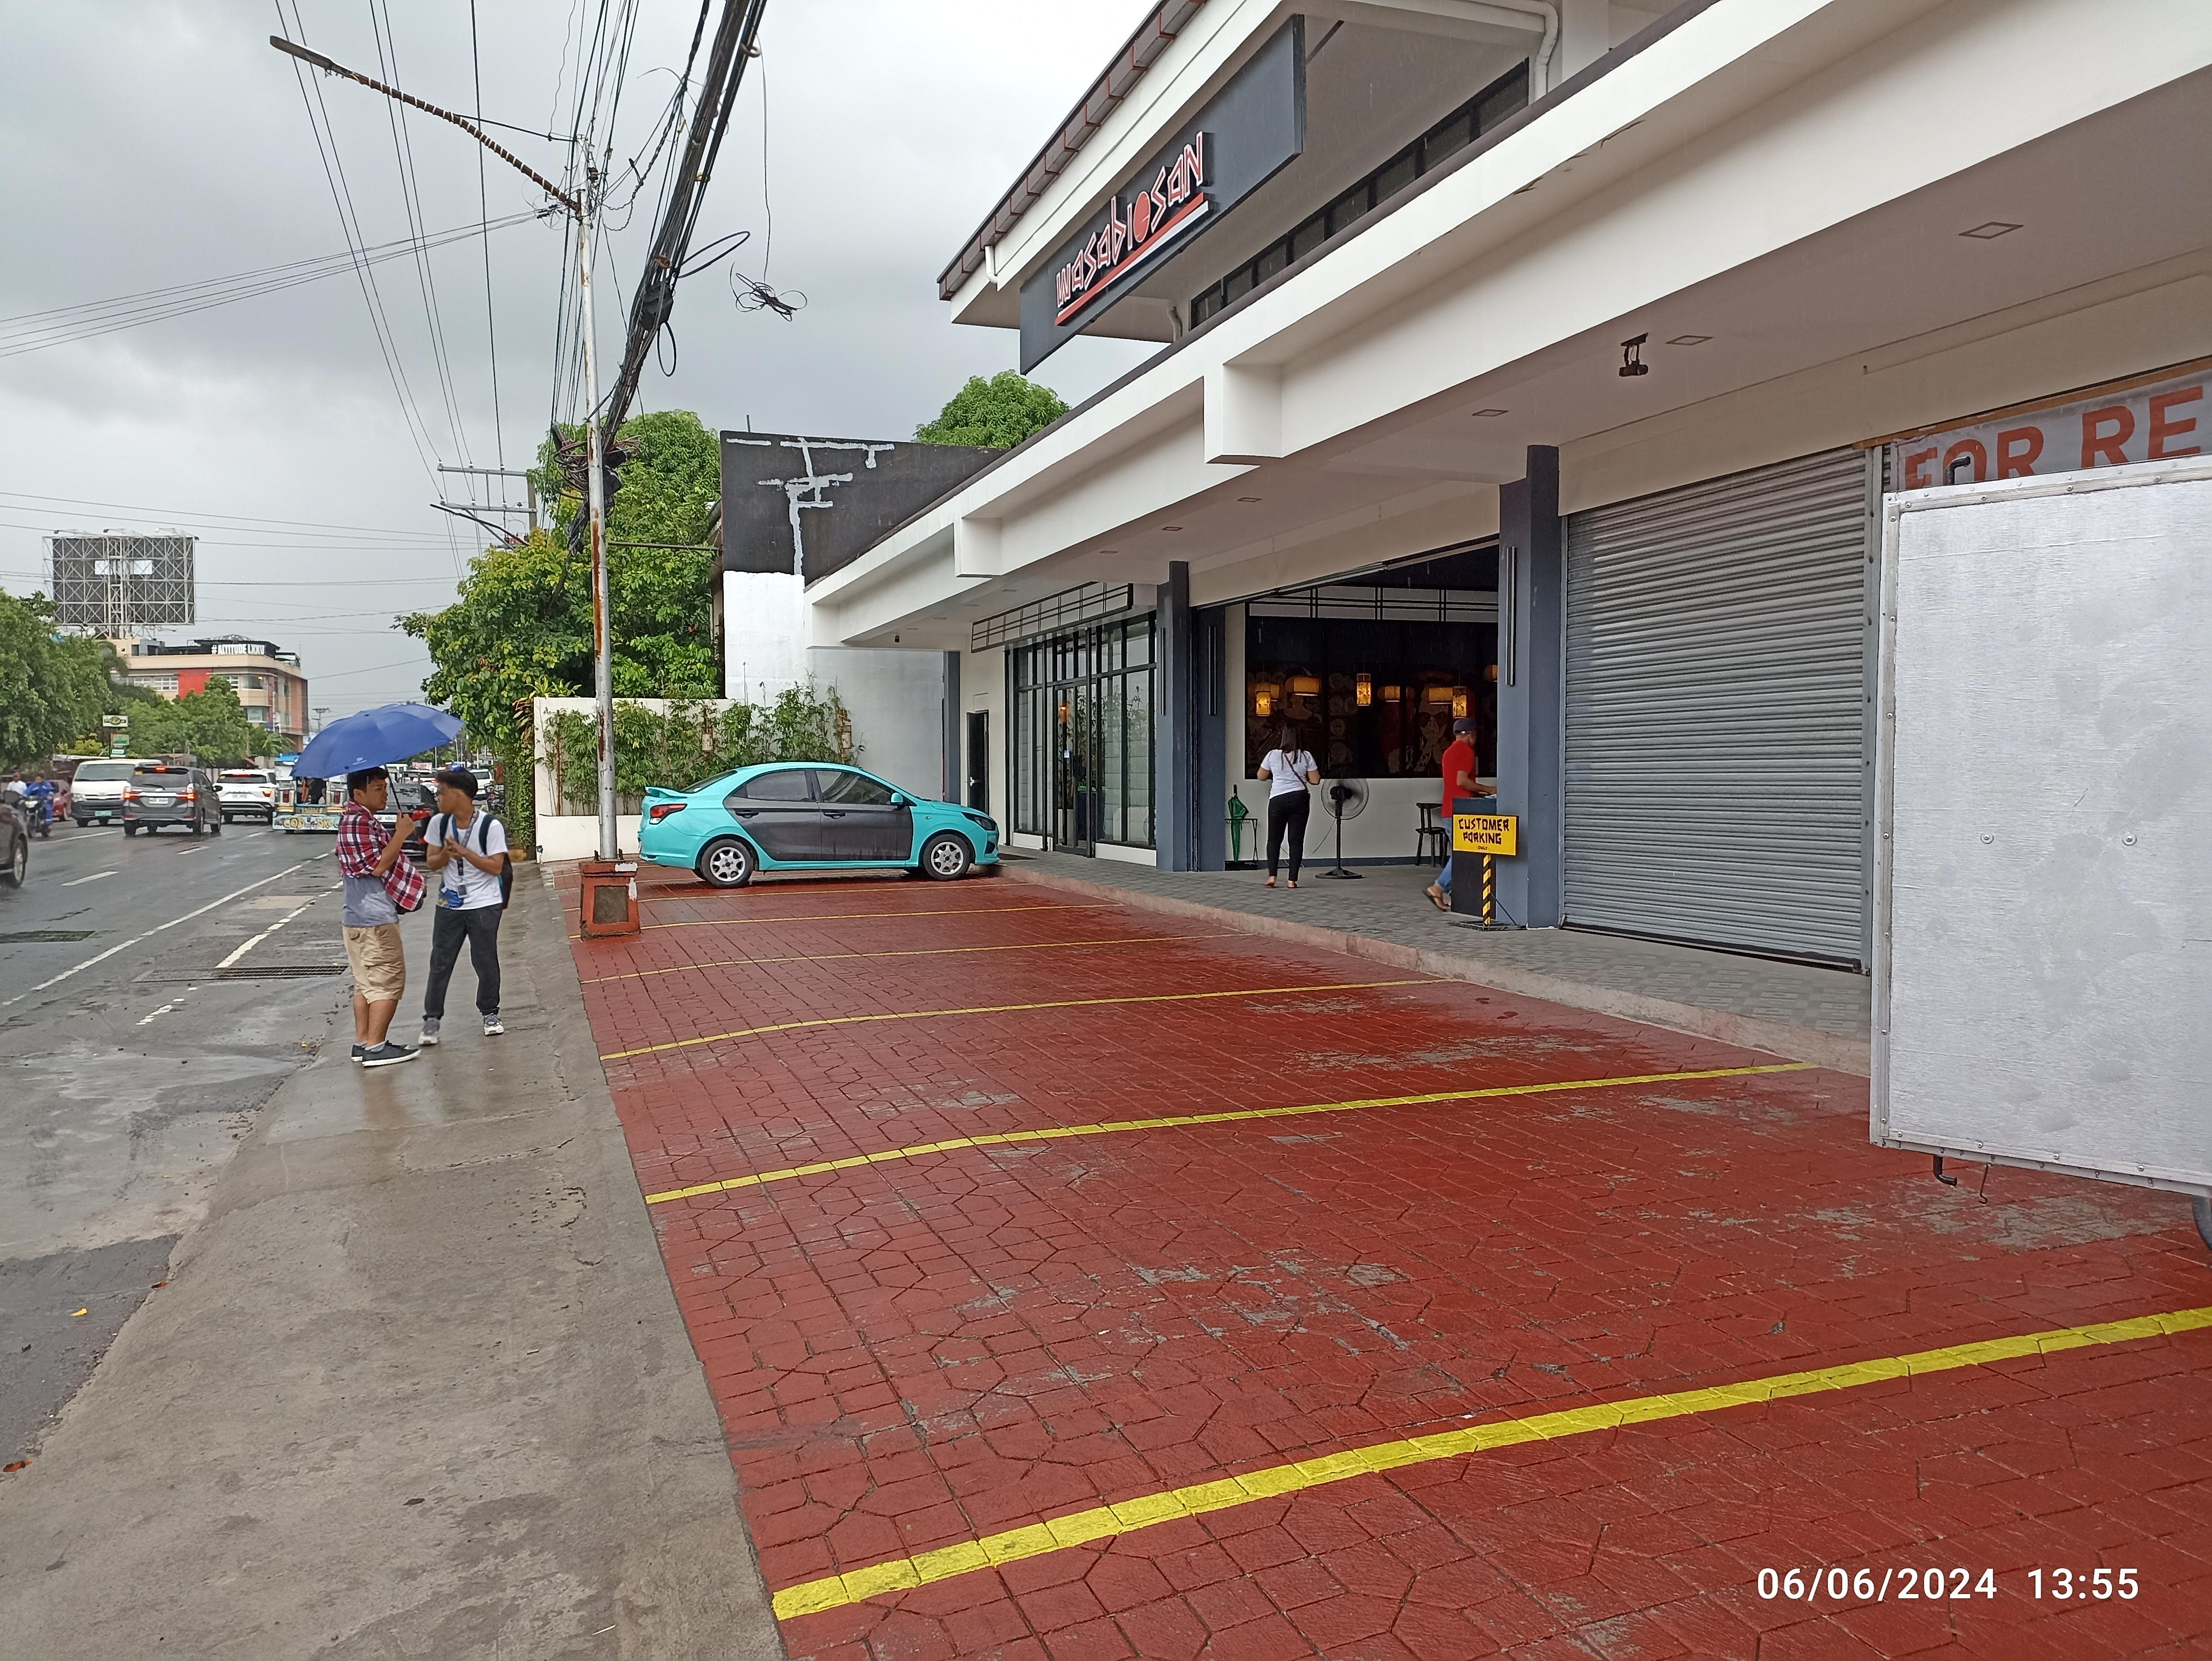vacant: (649, 1064, 2209, 1607), (600, 979, 1807, 1199), (583, 935, 1448, 1057)
